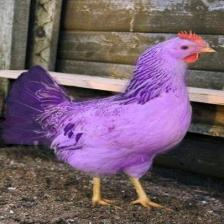purple: (3, 31, 216, 211)
